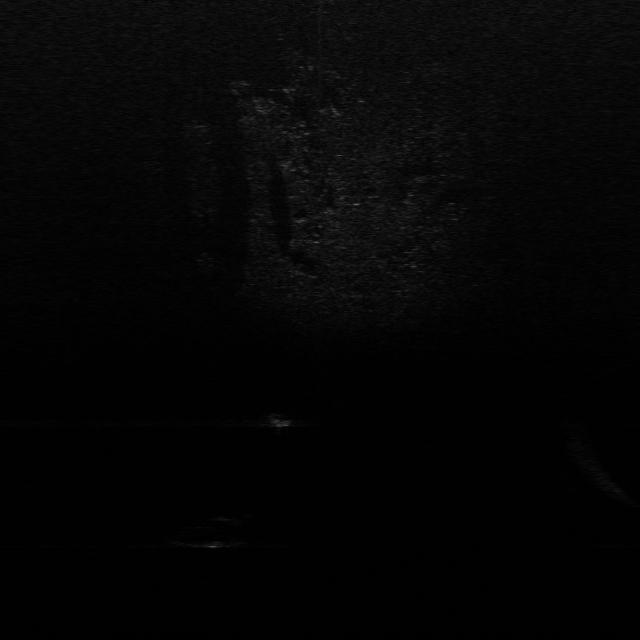cube: (207, 510, 252, 530)
square cage: (260, 409, 294, 432)
tyre: (167, 523, 248, 550)
